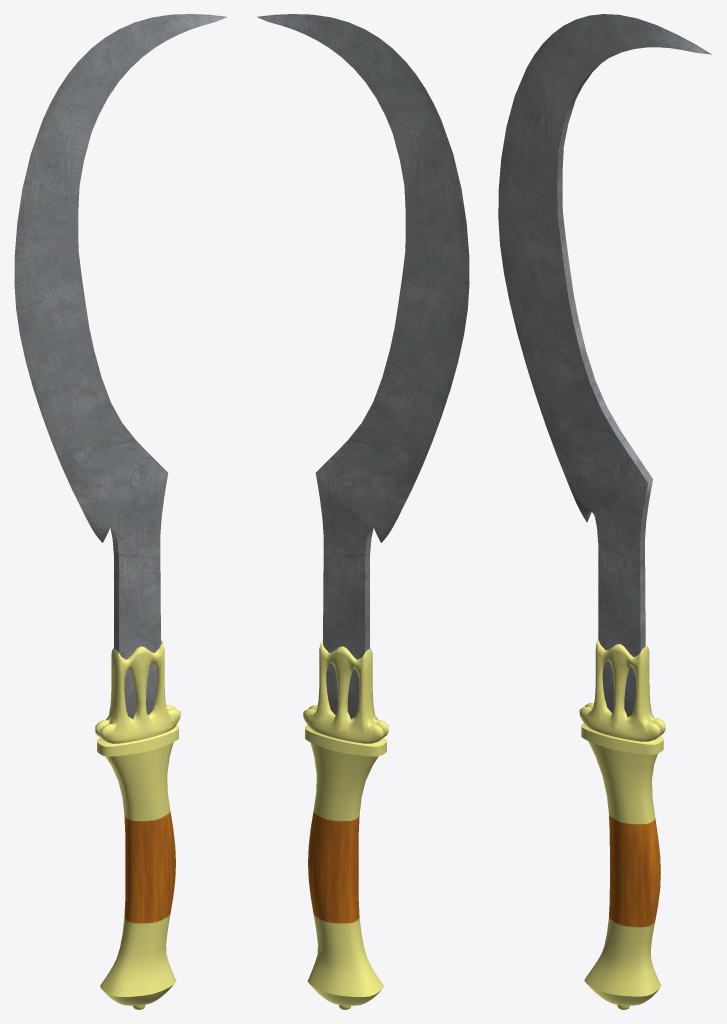
File: khopesh.glb
3 renders of one model, left to right at view 1: azimuth 30°, elevation 25°; view 2: azimuth 150°, elevation 25°; view 3: azimuth 330°, elevation 25°, orthographic.
Parts seen in each view (by area): view 1: khopesh; view 2: khopesh; view 3: khopesh.
Part boxes in pixels (x1,y1,x2,y2): khopesh: (14, 14, 226, 1009); khopesh: (257, 14, 469, 1009); khopesh: (498, 14, 711, 1009).
Size of the model in its own units: 0.2213 by 0.9807 by 0.0516.
1 material, 1 textured.
